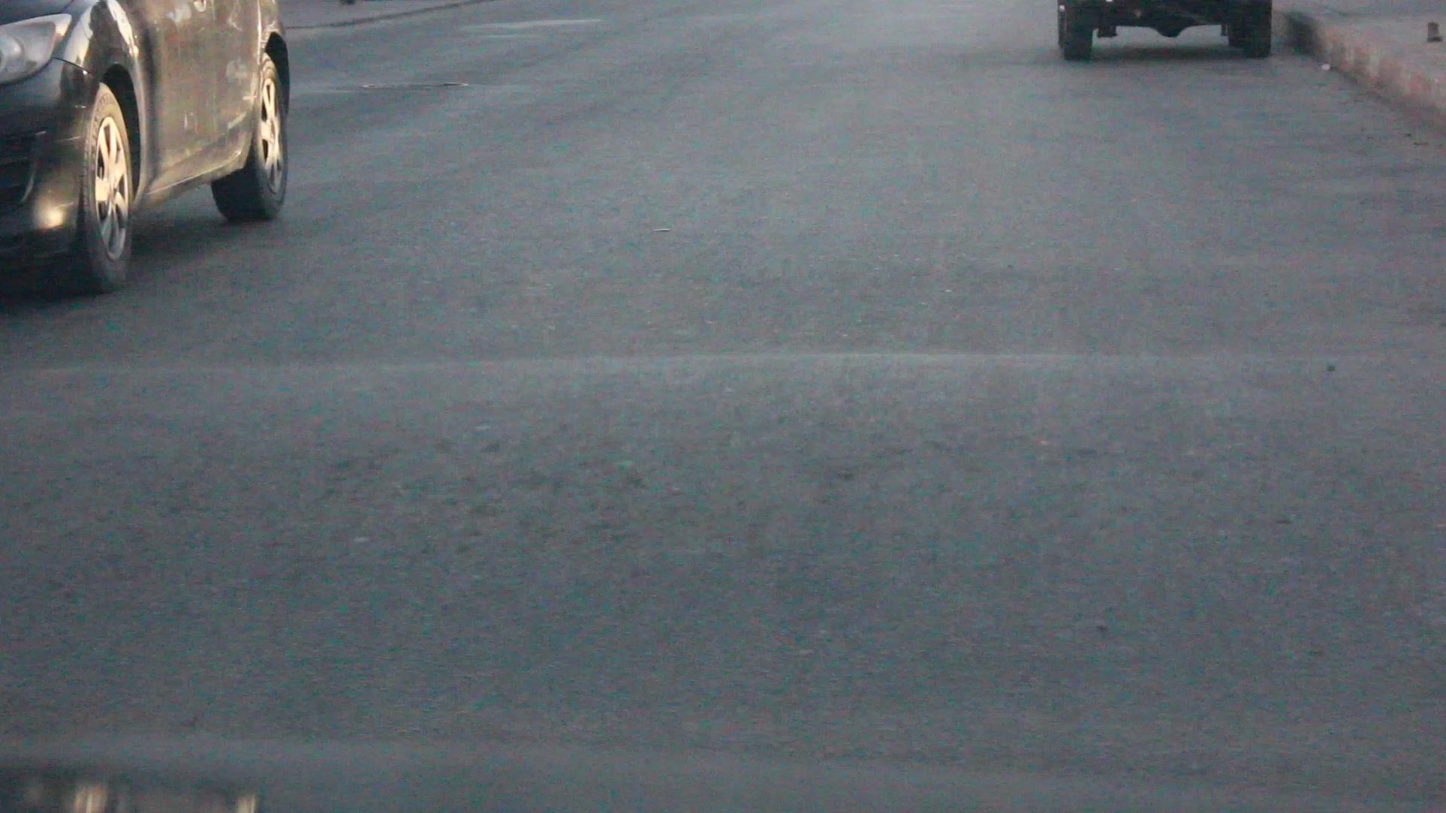Bump: (0, 343, 1446, 745)
